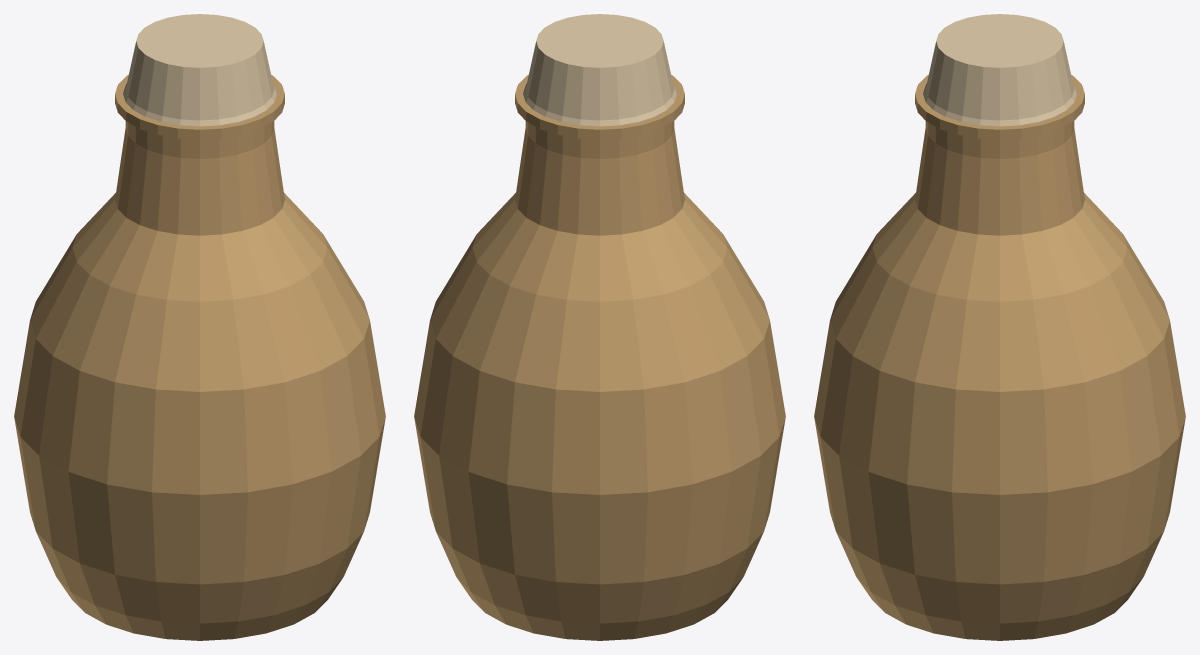
The model's file is PCP_ChemBottle.fbx.
3 views of the same model, side by side, from view 1: azimuth 30°, elevation 25°; view 2: azimuth 150°, elevation 25°; view 3: azimuth 270°, elevation 25° (orthographic).
Parts seen in each view (by area): view 1: PCP_ChemBottle; view 2: PCP_ChemBottle; view 3: PCP_ChemBottle.
Part boxes in pixels (bbox=[...]): PCP_ChemBottle: bbox=[14, 14, 385, 640]; PCP_ChemBottle: bbox=[414, 14, 785, 640]; PCP_ChemBottle: bbox=[814, 14, 1185, 640].
Size of the model in its own units: 0.07 by 0.113 by 0.07.
